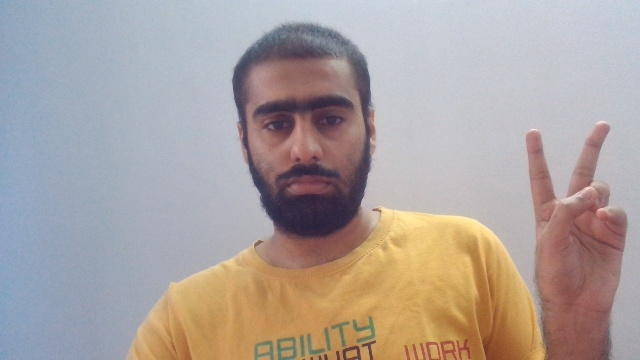scissors: (524, 120, 629, 315)
